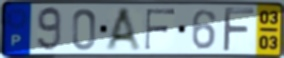0: (71, 7, 98, 51)
6: (190, 8, 218, 51)
9: (34, 5, 63, 53)
A: (104, 6, 145, 53)
F: (221, 6, 257, 53), (143, 8, 177, 52)
